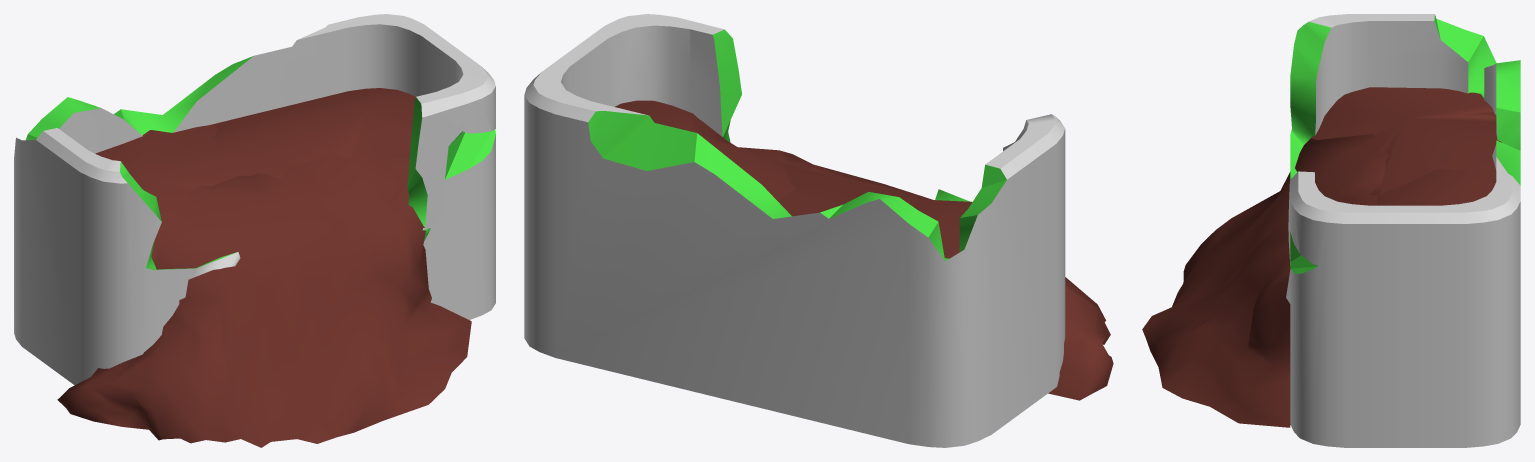
Rendered from Plant Pot Long Destroyed B.fbx.
The picture shows the model from 3 angles, left to right: view 1: azimuth 30°, elevation 25°; view 2: azimuth 150°, elevation 25°; view 3: azimuth 270°, elevation 25°; orthographic projection. The views are drawn at different scales.
Visible parts, largest first — view 1: Plant Long Destroyed B; view 2: Plant Long Destroyed B; view 3: Plant Long Destroyed B.
Part boxes in pixels (x1,y1,x2,y2): Plant Long Destroyed B: (14,14,495,447); Plant Long Destroyed B: (524,14,1113,447); Plant Long Destroyed B: (1142,14,1520,447).
Size of the model in its own units: 2.03 by 1.09 by 1.48.
